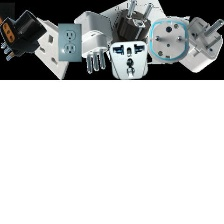three_eye_plug: (27, 14, 76, 82), (172, 14, 223, 75), (70, 7, 114, 74), (0, 6, 48, 63), (144, 13, 192, 66), (112, 0, 157, 52), (104, 35, 154, 79), (54, 20, 83, 64)
